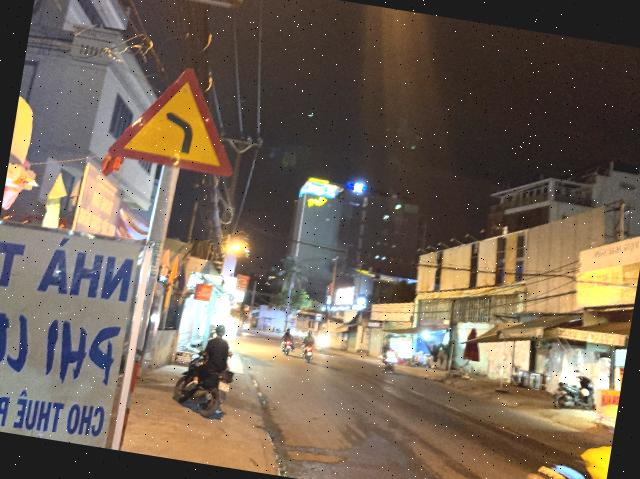cho-ngoat-nguy-hiem-ben-phai: (105, 58, 248, 178)
